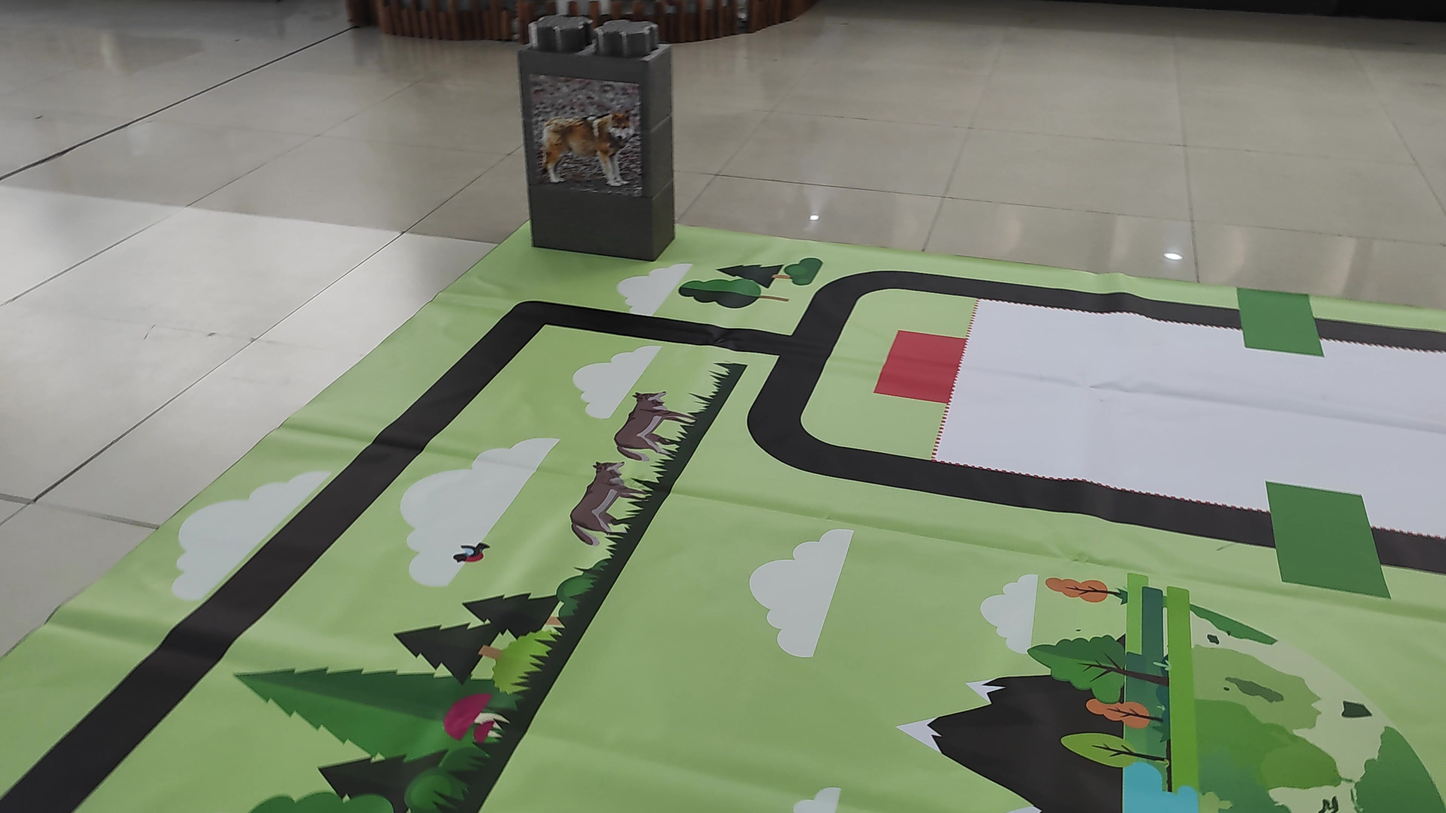wolf: (534, 73, 644, 190)
